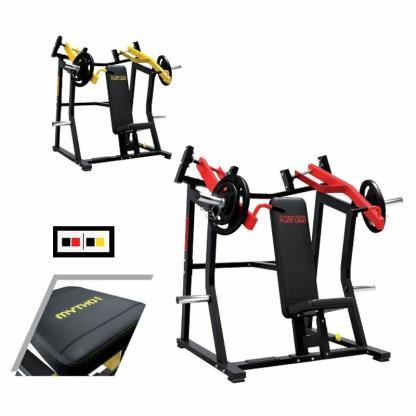shoulder press machine: (170, 145, 403, 389), (27, 27, 181, 176)
